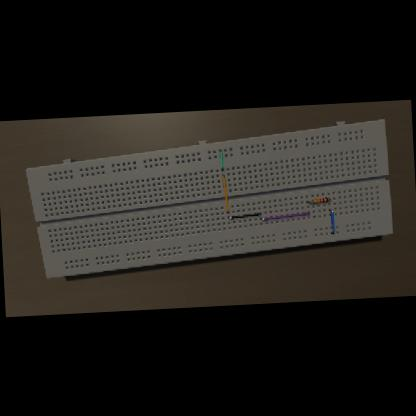breadboard: (24, 119, 394, 280)
resistor: (312, 197, 328, 203)
wire: (260, 212, 310, 220), (228, 213, 262, 219), (223, 175, 228, 213), (329, 210, 335, 234), (220, 150, 224, 171), (328, 198, 330, 199)
